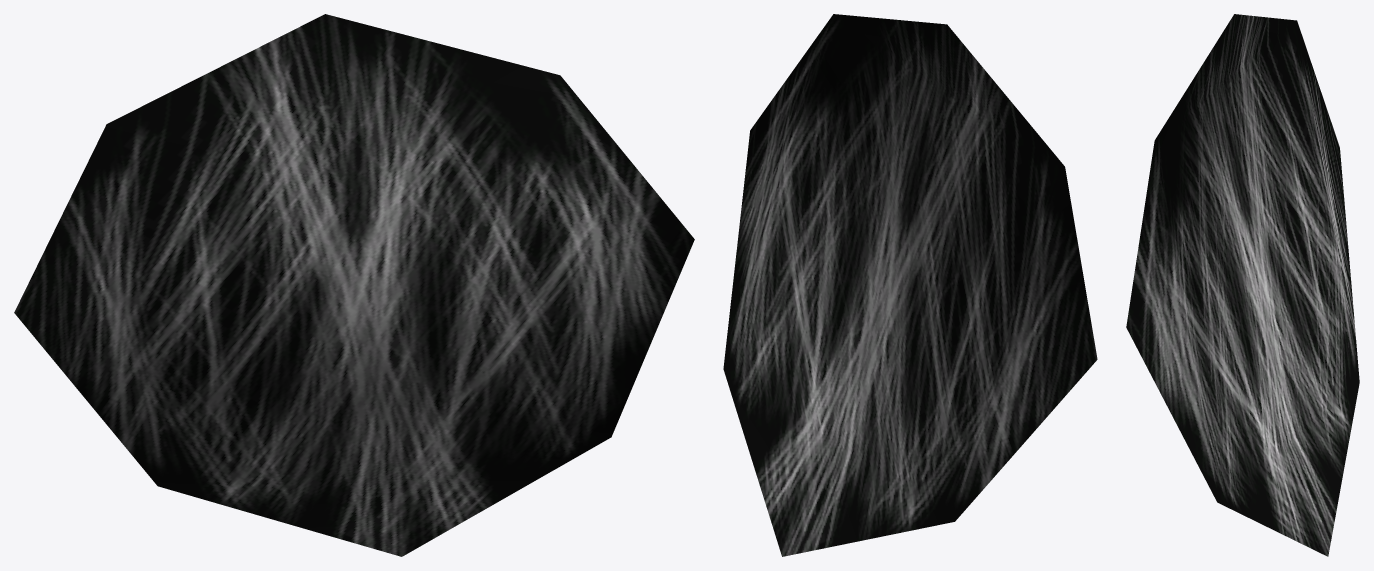
The model's file is MIRKWOOD_SPIDERWEB_COVERS24.fbx.
The picture shows the model from 3 angles, left to right: view 1: azimuth 30°, elevation 25°; view 2: azimuth 150°, elevation 25°; view 3: azimuth 270°, elevation 25°; orthographic projection. The views are drawn at different scales.
Parts seen in each view (by area): view 1: MIRKWOOD_SPIDERWEB_COVERS24; view 2: MIRKWOOD_SPIDERWEB_COVERS24; view 3: MIRKWOOD_SPIDERWEB_COVERS24.
Boxes of the visible parts, left/top/right/bottom form: MIRKWOOD_SPIDERWEB_COVERS24: left=14, top=14, right=694, bottom=556; MIRKWOOD_SPIDERWEB_COVERS24: left=723, top=14, right=1097, bottom=556; MIRKWOOD_SPIDERWEB_COVERS24: left=1126, top=14, right=1359, bottom=556.
Bounding box in the file's own units: 11304 × 12262 × 5290.
Materials: 1 (1 with a texture image).
